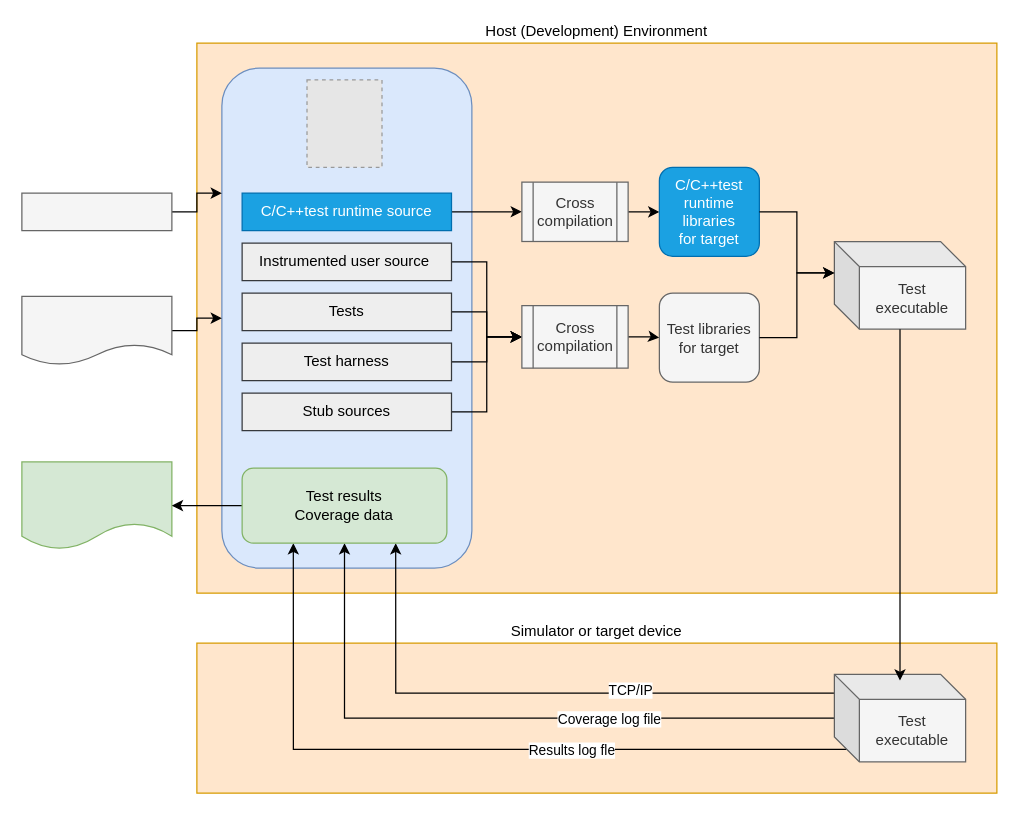
This 1019x815 diagram has some shape labels left out. Grey dashed boxes stand in for pictures. Here are the shapes that lost their labels. From the top down, the centre of each, then its label:
the point at 96,211: Libararies
the point at 96,330: User source
the point at 96,505: Reports Text | HTML | XML
